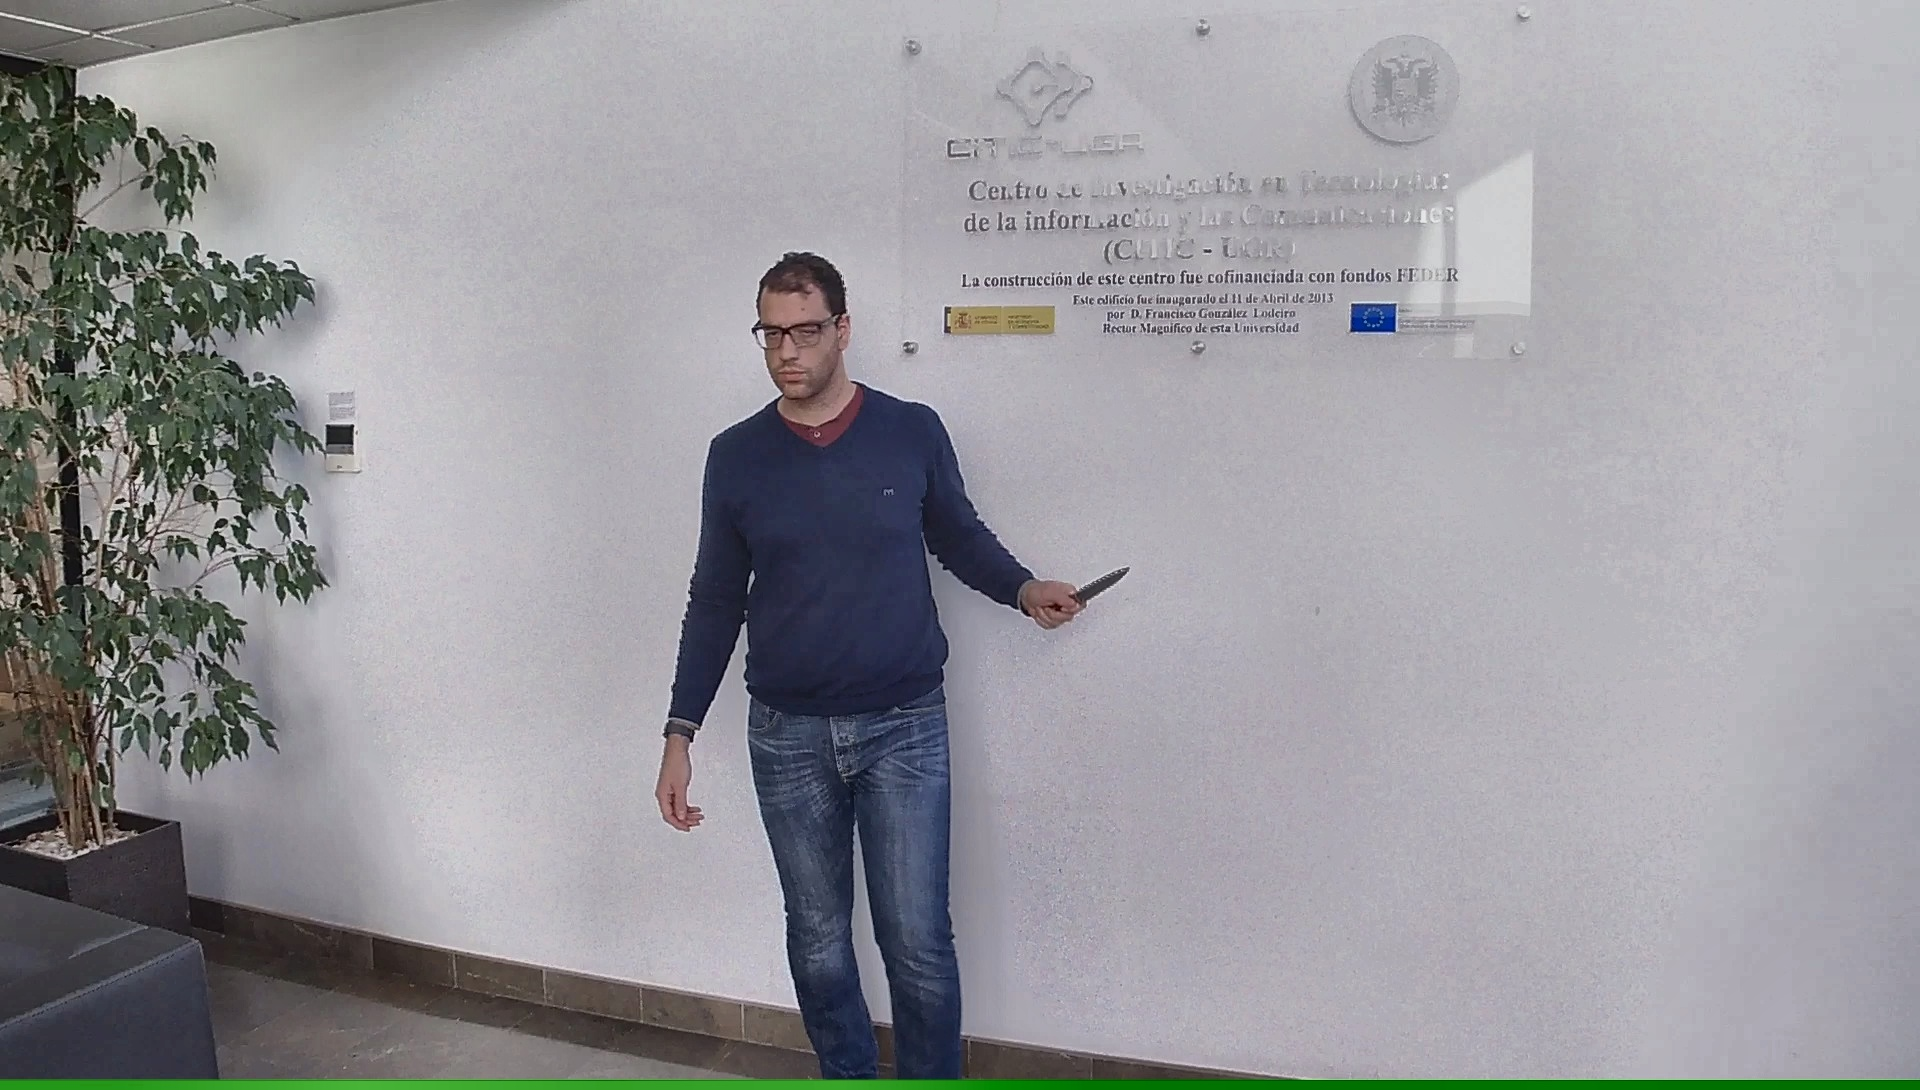knife: (1030, 556, 1142, 633)
